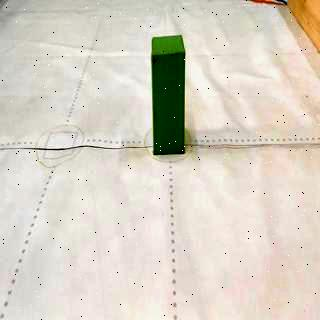greenbox: (151, 35, 186, 154)
